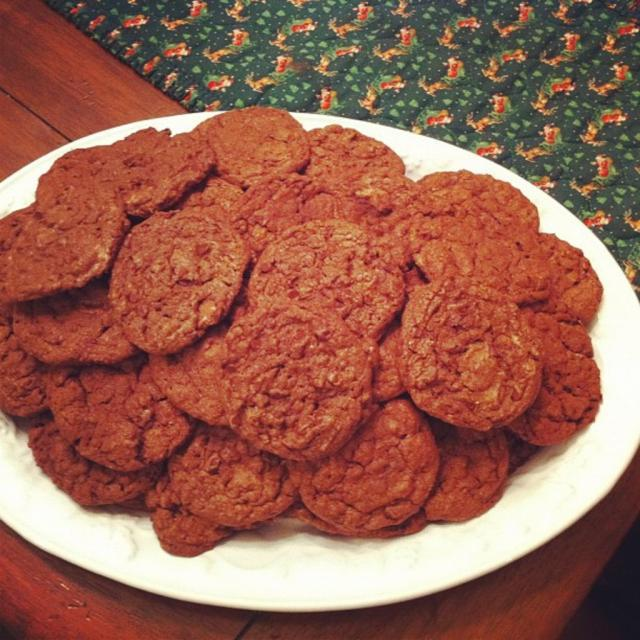Cookie: (0, 101, 604, 560), (105, 203, 234, 366)
